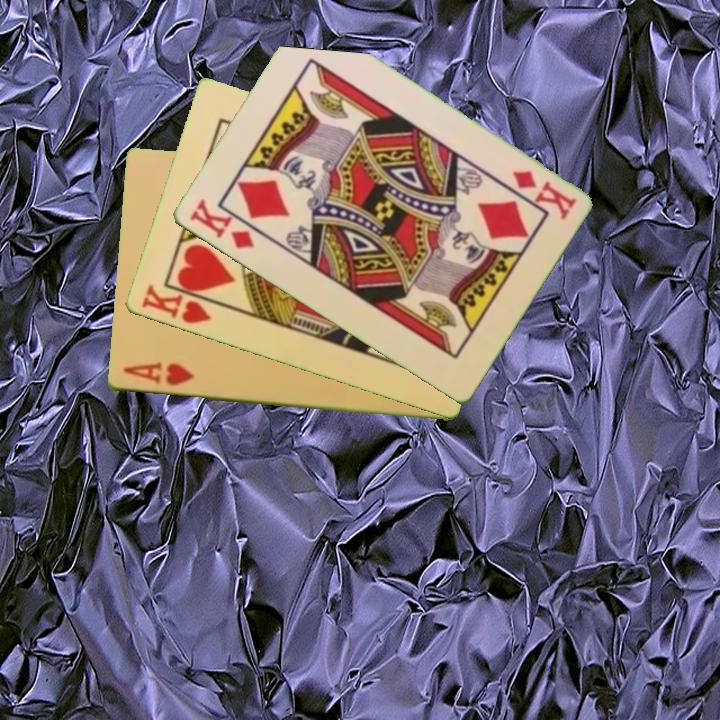Ah: (119, 359, 197, 389)
Kd: (185, 195, 257, 252), (508, 167, 579, 222)
Kh: (137, 281, 222, 327)
